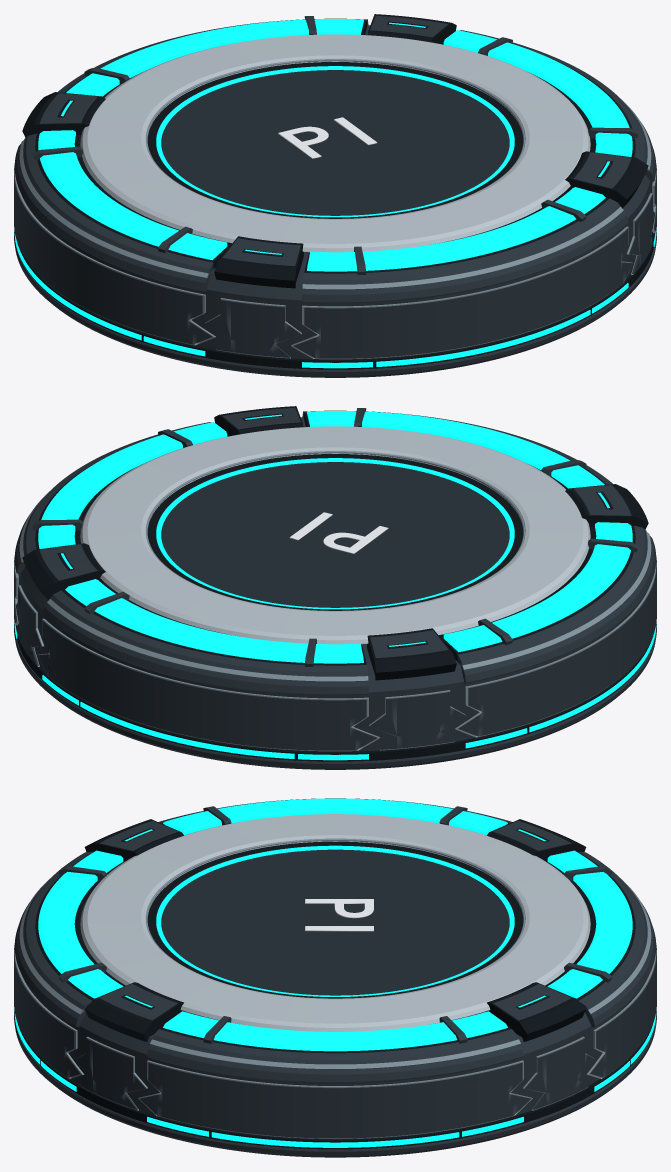
The model's file is Bouncer.fbx.
3 renders of one model, top to bottom at view 1: azimuth 30°, elevation 25°; view 2: azimuth 150°, elevation 25°; view 3: azimuth 270°, elevation 25°, orthographic.
Parts seen in each view (by area): view 1: SM_Puck_Bouncer_P1_HighDetail; view 2: SM_Puck_Bouncer_P1_HighDetail; view 3: SM_Puck_Bouncer_P1_HighDetail.
Part boxes in pixels (box(x1,y1,x2,y2)): SM_Puck_Bouncer_P1_HighDetail: box(14, 14, 656, 377); SM_Puck_Bouncer_P1_HighDetail: box(14, 406, 656, 769); SM_Puck_Bouncer_P1_HighDetail: box(14, 798, 656, 1157).
Bounding box in the file's own units: 86.5 × 86.5 × 16.1.
